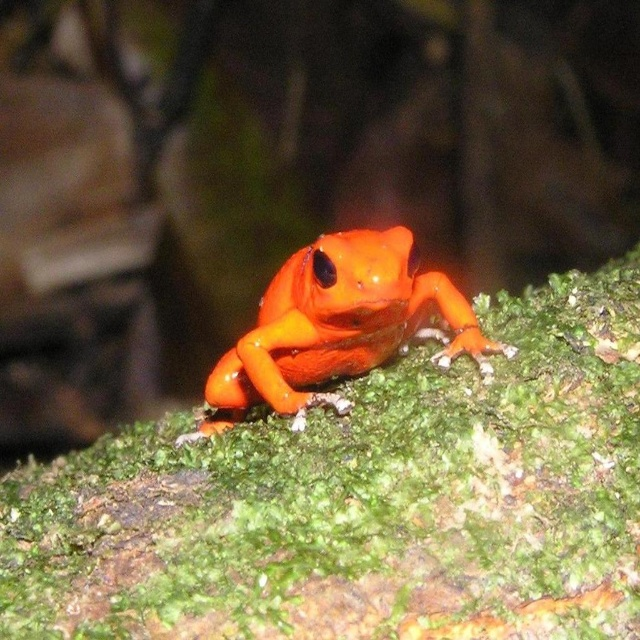Frog: (174, 226, 519, 449)
